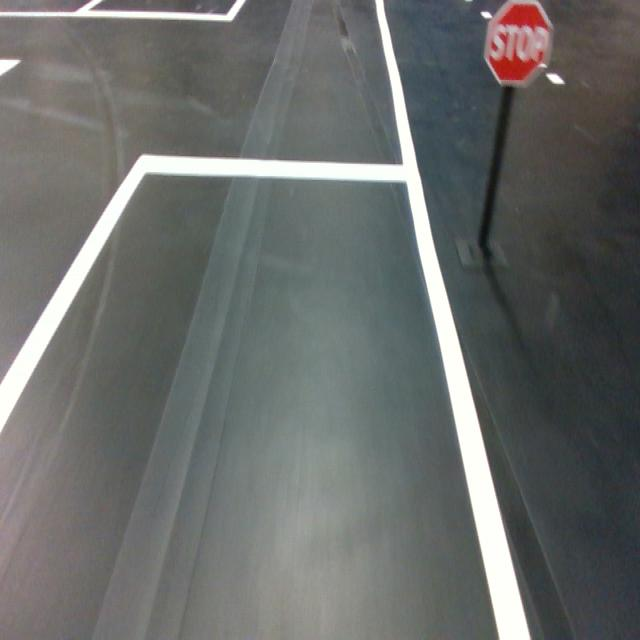stop-sign: (483, 0, 553, 87)
